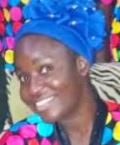without_facemask: (18, 85, 79, 126)
